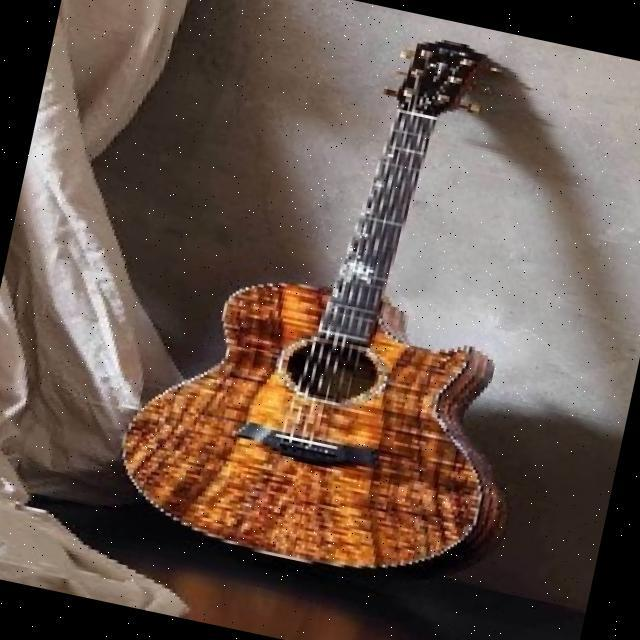acousticguitar: (124, 42, 501, 566)
